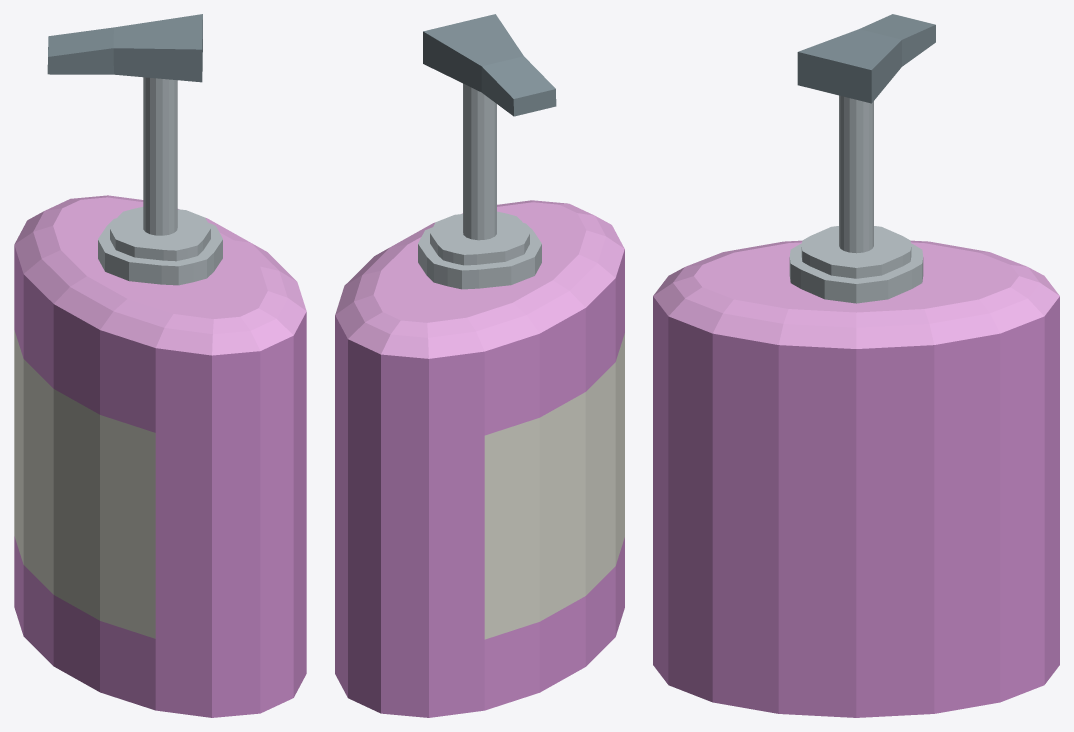
File: Lotion.fbx
The picture shows the model from 3 angles, left to right: view 1: azimuth 30°, elevation 25°; view 2: azimuth 150°, elevation 25°; view 3: azimuth 270°, elevation 25°; orthographic projection. The views are drawn at different scales.
Visible parts, largest first — view 1: Cylinder; view 2: Cylinder; view 3: Cylinder.
Part boxes in pixels (x1=…): Cylinder: x1=14, y1=14, x2=306, y2=717; Cylinder: x1=335, y1=14, x2=624, y2=717; Cylinder: x1=653, y1=14, x2=1059, y2=717.
Bounding box in the file's own units: 259 × 159 × 434.
